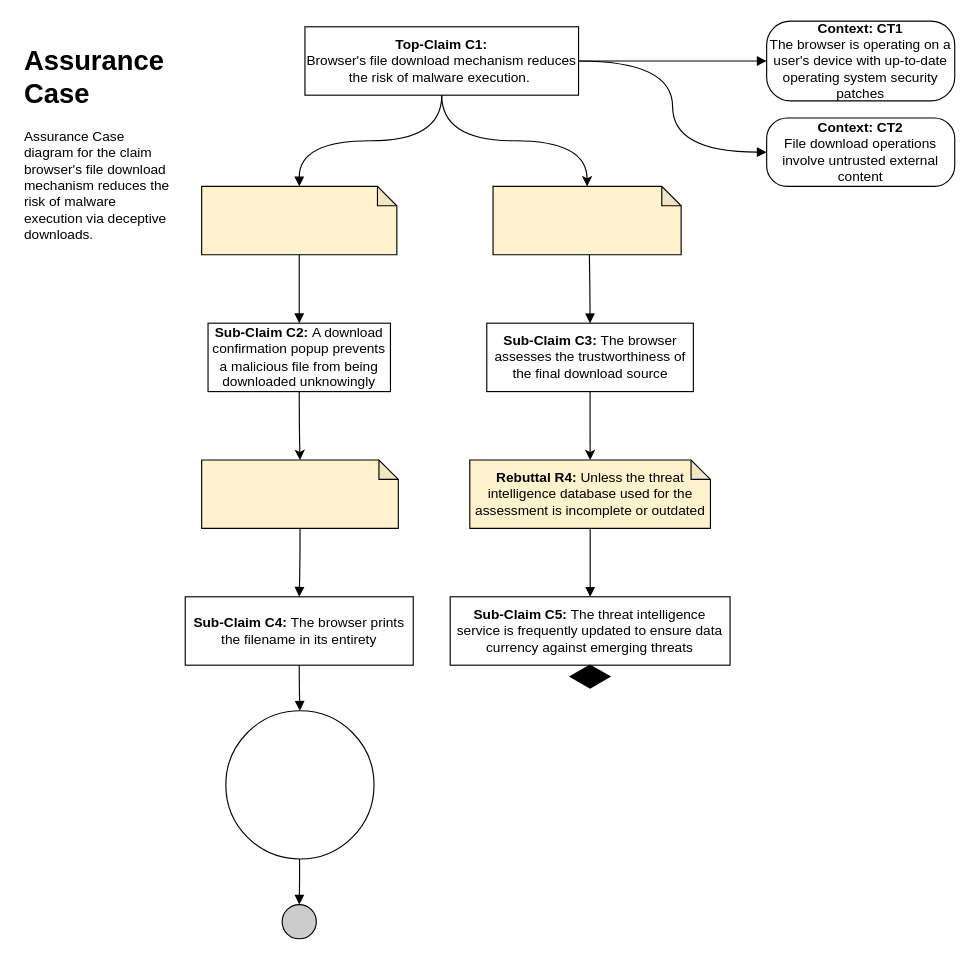
Image size: 976x959. Some labels were removed from this diagram. Here are the shapes that lost their labels. From the top down, the box of each, then its label:
(201, 185, 397, 255): Rebuttal R1: Unless the download happens without a user's input
(492, 185, 681, 255): Rebuttal R2: Unless the file download source is redirected
(201, 459, 398, 528): Rebuttal R3: Unless the popup doesn't display the file's real name/extension
(225, 710, 374, 859): Evidence E1: Filename printing dialogue box UI/Qt/Application.cpp
